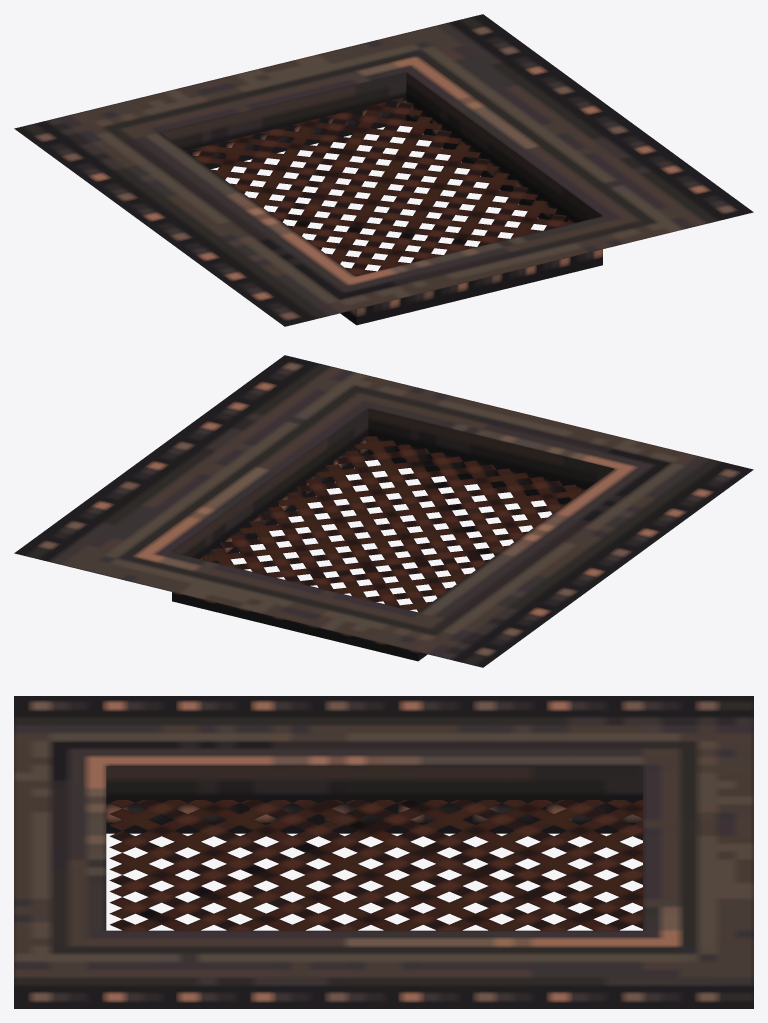
The model's file is EnvBdgMD_Factory_B_Outdoor_Fenece_B_Grd.FBX.
The picture shows the model from 3 angles, top to bottom: view 1: azimuth 30°, elevation 25°; view 2: azimuth 150°, elevation 25°; view 3: azimuth 270°, elevation 25°; orthographic projection. The views are drawn at different scales.
Parts seen in each view (by area): view 1: EnvBdgMD_Factory_B_Outdoor_Fenece_B_Grd; view 2: EnvBdgMD_Factory_B_Outdoor_Fenece_B_Grd; view 3: EnvBdgMD_Factory_B_Outdoor_Fenece_B_Grd.
Part boxes in pixels (x1,y1,x2,y2): EnvBdgMD_Factory_B_Outdoor_Fenece_B_Grd: (14,14,753,326); EnvBdgMD_Factory_B_Outdoor_Fenece_B_Grd: (14,355,753,667); EnvBdgMD_Factory_B_Outdoor_Fenece_B_Grd: (14,696,753,1008).
Size of the model in its own units: 200 by 20 by 200.
